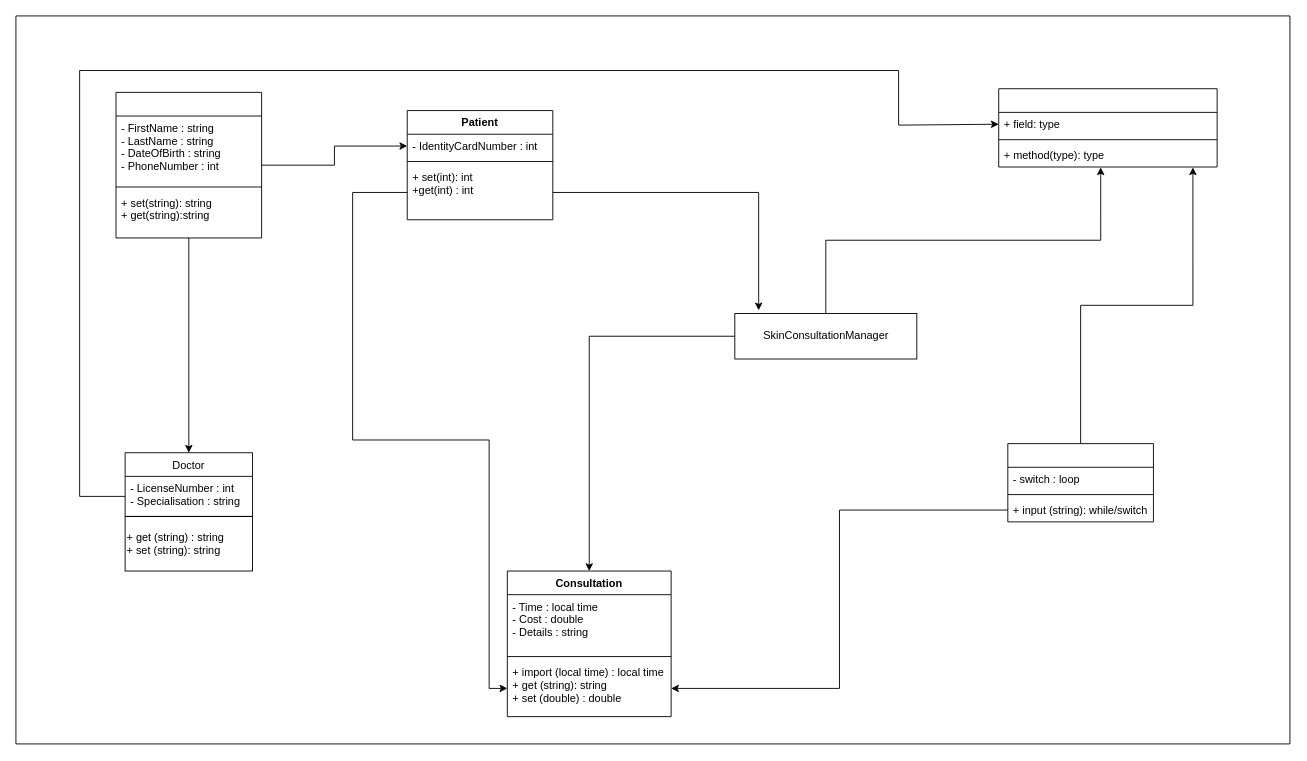
This 1307x761 diagram has some shape labels left out. Each missing label, with the box of its shape:
Main: (1007, 443, 1153, 522)
Person: (115, 91, 262, 238)
WestminsterSkinConsulationManager: (998, 88, 1217, 167)
